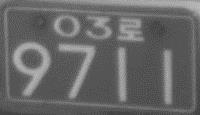0: (53, 13, 81, 37)
1: (107, 45, 140, 102), (150, 48, 183, 104)
3: (85, 14, 112, 40)
7: (57, 42, 97, 99)
9: (12, 40, 51, 97)
로: (117, 16, 144, 42)
